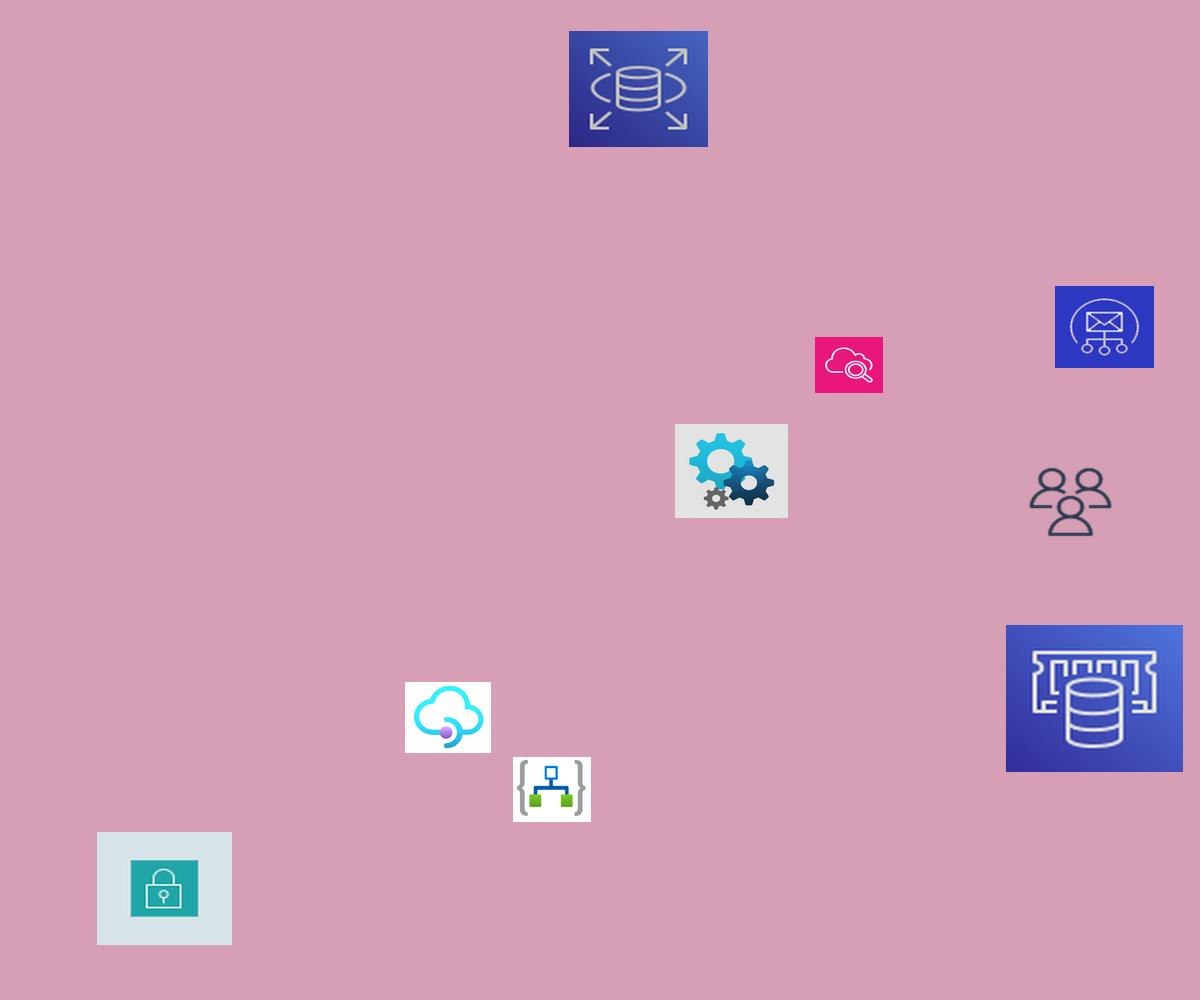AWS-CloudWatch: (815, 337, 883, 393)
AWS-ElastiCache: (1006, 625, 1183, 772)
AWS-Private-subnet: (97, 832, 232, 945)
AWS-RDS: (569, 31, 708, 147)
AWS-Res_Users: (1026, 465, 1115, 539)
AWS-Simple-Email-Service: (1055, 286, 1154, 368)
Azure_api: (675, 424, 788, 518)
Azure_api_gateway: (405, 682, 491, 753)
Azure_integration-204-Logic-Apps: (513, 757, 591, 822)
